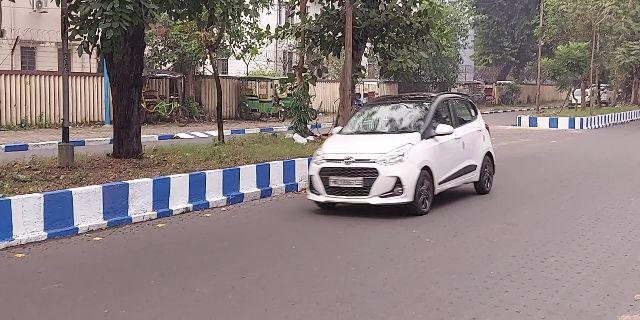Car: (302, 85, 502, 210)
